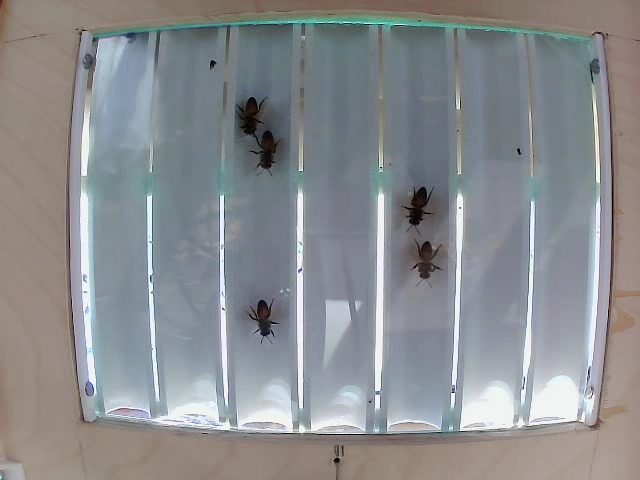bee: (238, 286, 290, 353), (396, 237, 443, 288), (224, 87, 268, 135), (400, 183, 440, 233), (249, 124, 281, 175)
